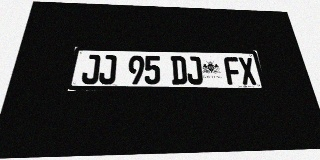5: (145, 56, 160, 84)
9: (128, 55, 144, 84)
D: (171, 56, 187, 84)
F: (223, 57, 242, 85)
J: (81, 55, 101, 84), (98, 55, 117, 84), (186, 56, 203, 84)
X: (238, 57, 257, 85)
